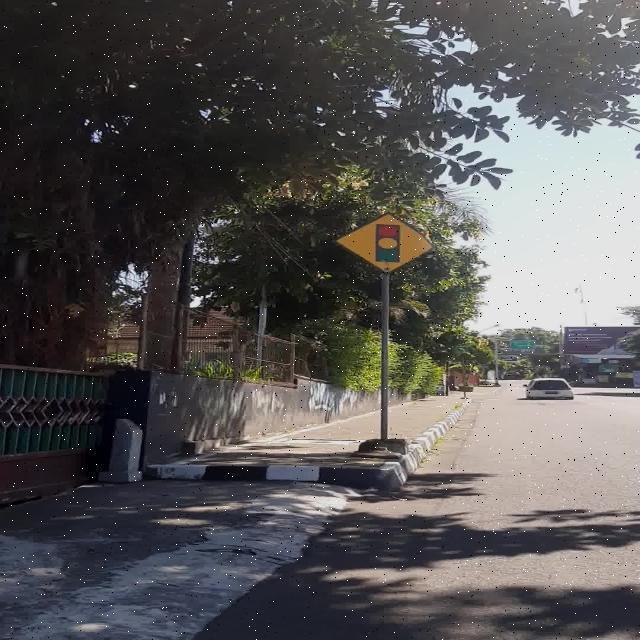Lampu Lalu Lintas: (333, 212, 435, 274)
